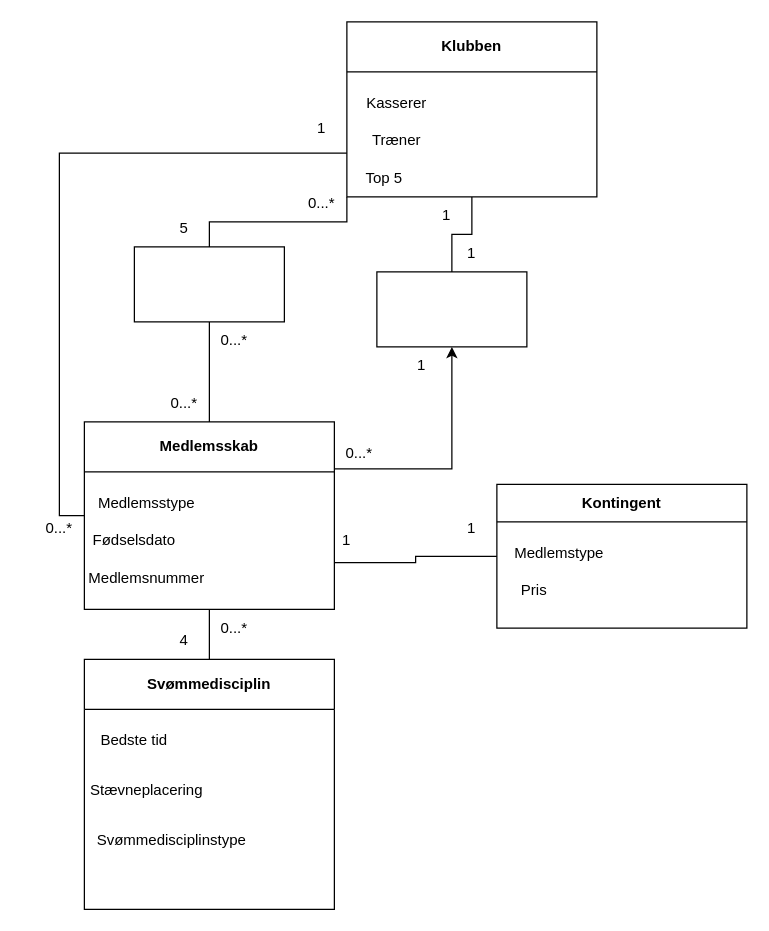
Some shapes in this 769 by 931 pixel diagram are drawn without their labels. Each missing label, with the centre of its shape:
Formand: (x=451, y=309)
Svømmeresultater: (x=208, y=284)
